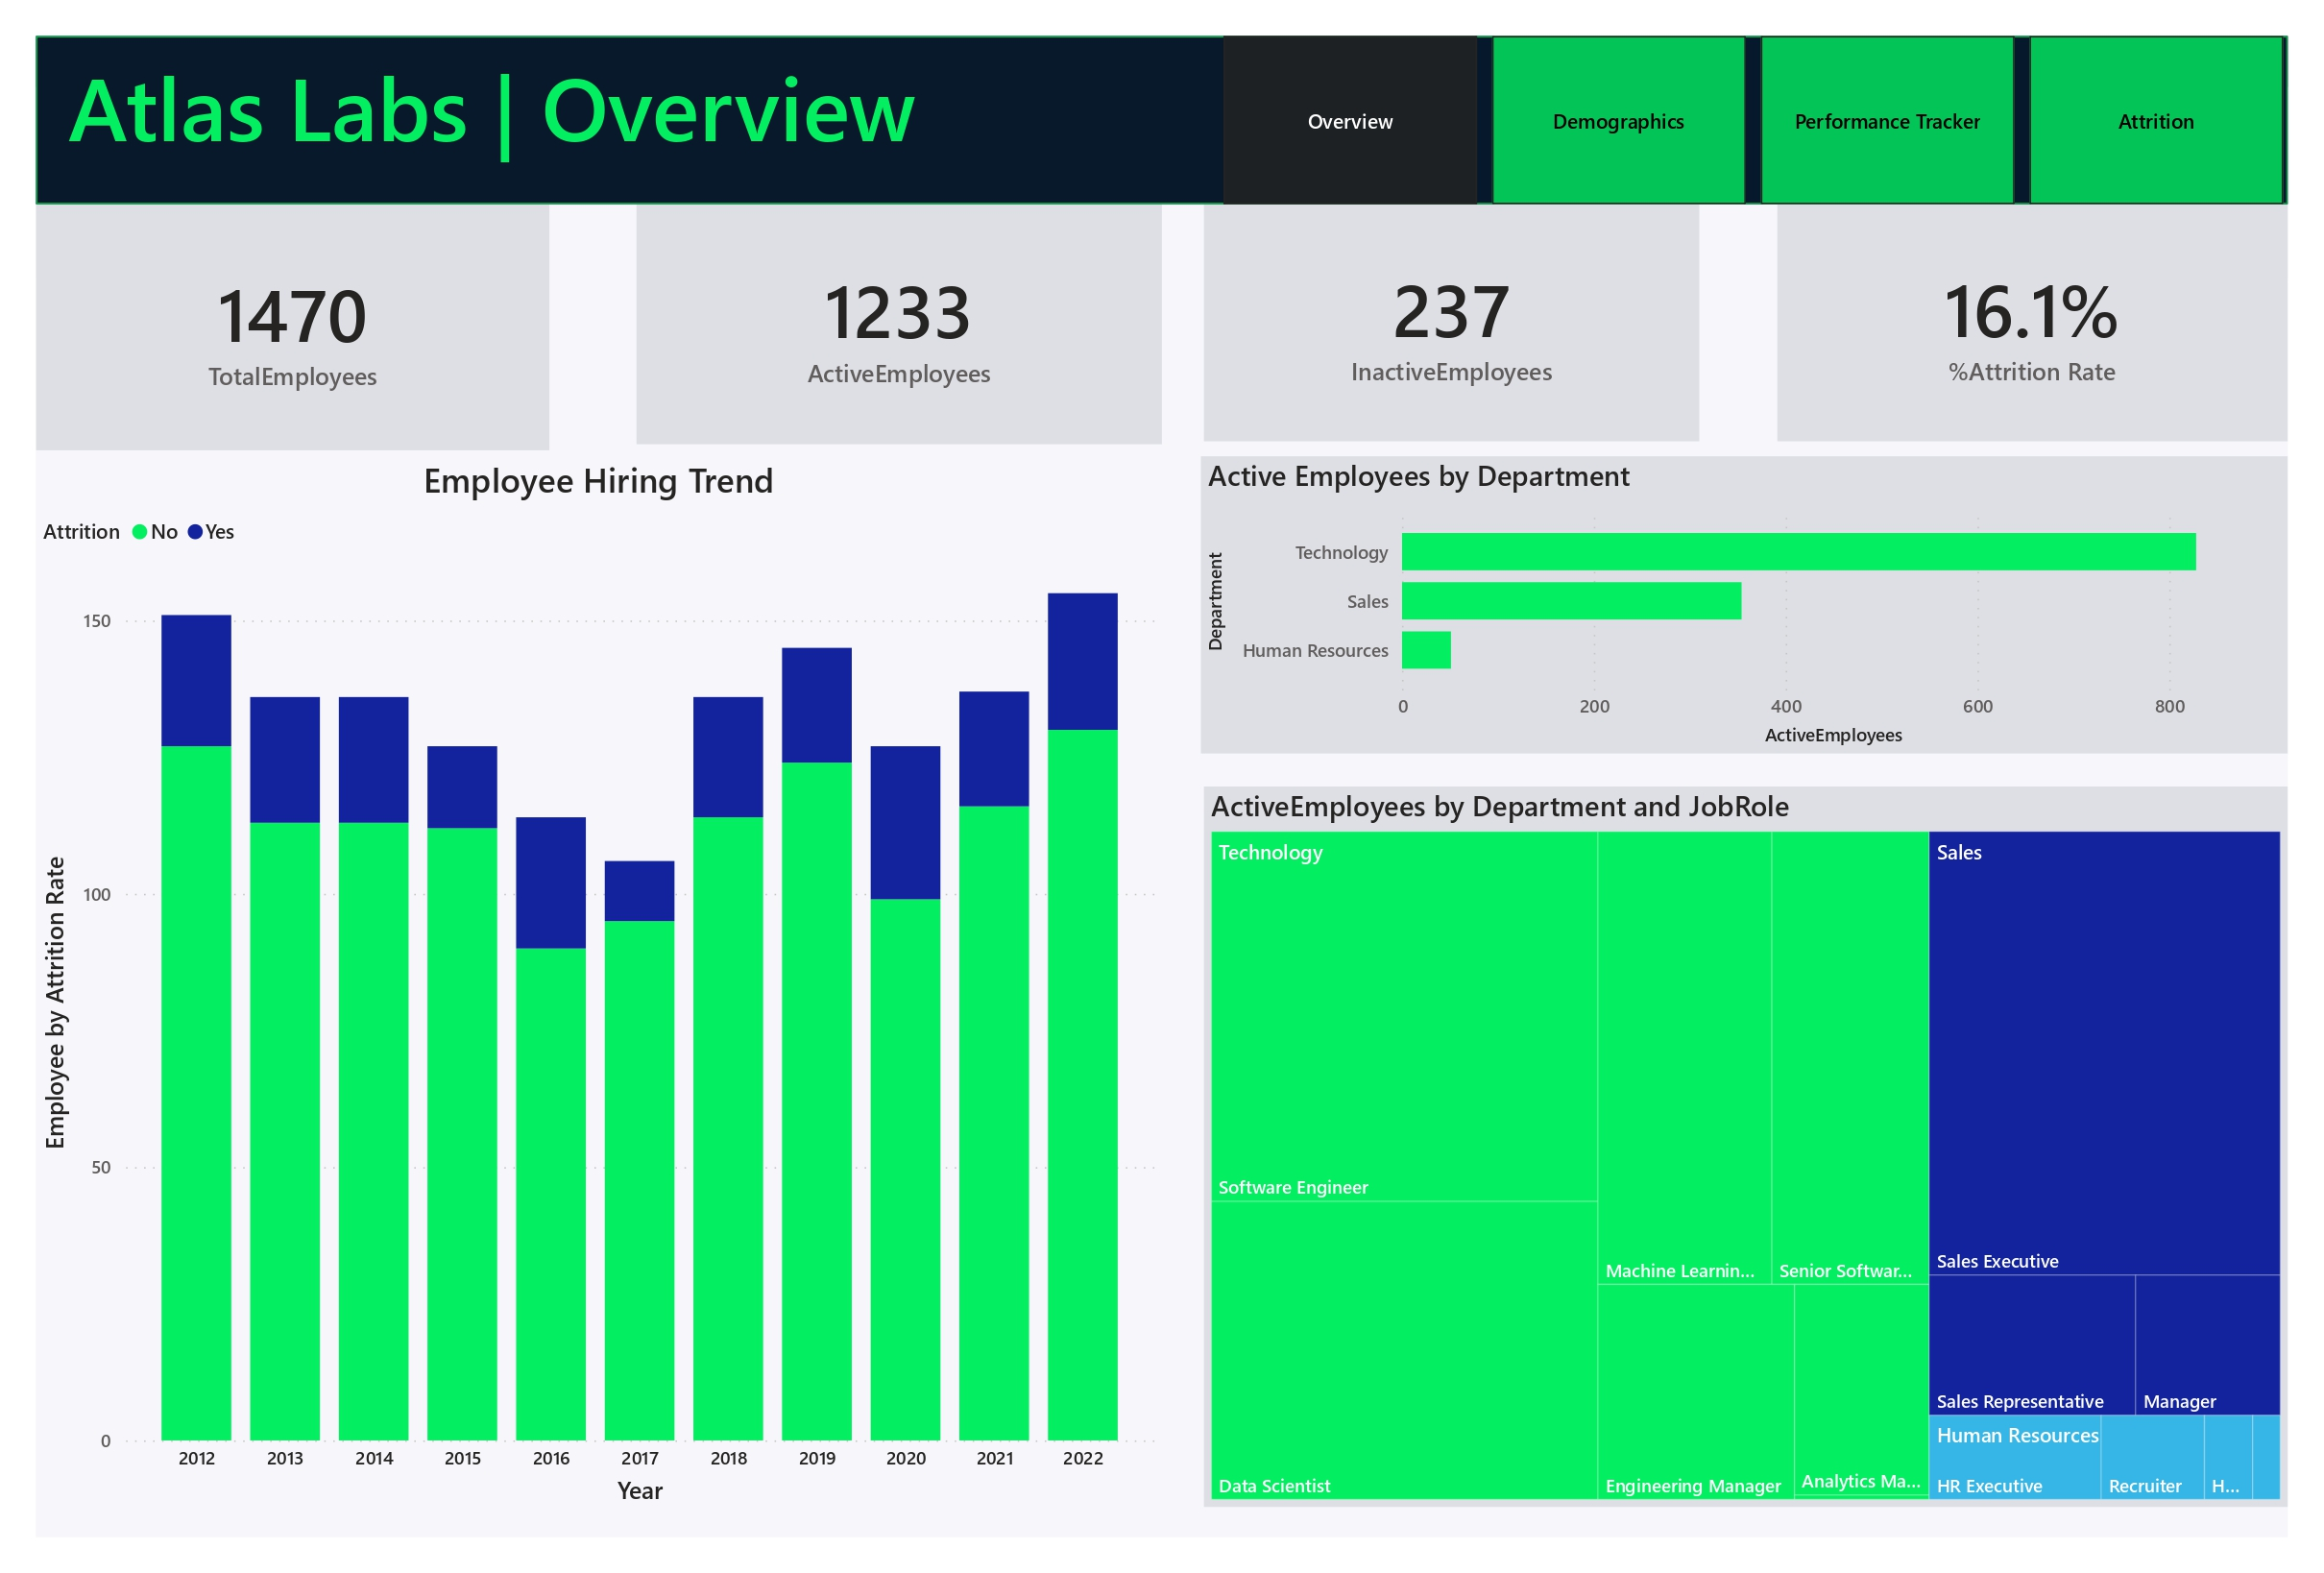

The page's visual inventory and layout, read from the dashboard file:
{"tool":"powerbi","page":{"name":"Overview","canvas":[1500,1000],"ordinal":0},"visuals":[{"type":"card","fields":{"Values":["_Measures.TotalEmployees"]},"box":[0,112,342,164],"z":0},{"type":"card","fields":{"Values":["_Measures.ActiveEmployees"]},"box":[399.6,112.2,350.4,159.4],"z":1000},{"type":"card","fields":{"Values":["_Measures.InactiveEmployees"]},"box":[777.6,112.2,330.7,157.5],"z":2000},{"type":"card","fields":{"Values":["_Measures.%Attrition Rate"]},"box":[1160,112,340,158],"z":3000},{"type":"columnChart","title":"Employee Hiring Trend","fields":{"Y":["_Measures.TotalEmployeesbyDate"],"Category":["DimDate.Date.Variation.Date Hierarchy.Year","DimDate.Date.Variation.Date Hierarchy.Quarter","DimDate.Date.Variation.Date Hierarchy.Month","DimDate.Date.Variation.Date Hierarchy.Day"],"Series":["DIMEmployee.Attrition"]},"box":[0,279.5,750,704.7],"z":4000},{"type":"clusteredBarChart","title":"Active Employees by Department","fields":{"Category":["DIMEmployee.Department"],"Y":["_Measures.ActiveEmployees"]},"box":[775.6,279.5,724.4,198.8],"z":5000},{"type":"treemap","fields":{"Group":["DIMEmployee.Department"],"Details":["DIMEmployee.JobRole"],"Values":["_Measures.ActiveEmployees"]},"box":[777.6,500,722.4,480.3],"z":6000},{"type":"shape","box":[0,0,1500,112.2],"z":7000},{"type":"textbox","box":[0,2,1500,110.2],"z":8000},{"type":"pageNavigator","box":[791.3,0,708.7,112.2],"z":9000}]}

Visuals, with their boxes on the page's 1500x1000 design canvas (x1, y1, x2, y2). These are canvas units, not pixel positions in the 2324x1573 screenshot, which may show the page scaled, cropped or inside an application window:
card - _Measures.TotalEmployees: x1=0 y1=112 x2=342 y2=276
card - _Measures.ActiveEmployees: x1=400 y1=112 x2=750 y2=272
card - _Measures.InactiveEmployees: x1=778 y1=112 x2=1108 y2=270
card - _Measures.%Attrition Rate: x1=1160 y1=112 x2=1500 y2=270
"Employee Hiring Trend" columnChart: x1=0 y1=280 x2=750 y2=984
"Active Employees by Department" clusteredBarChart: x1=776 y1=280 x2=1500 y2=478
treemap - DIMEmployee.Department x DIMEmployee.JobRole: x1=778 y1=500 x2=1500 y2=980
shape: x1=0 y1=0 x2=1500 y2=112
textbox: x1=0 y1=2 x2=1500 y2=112
pageNavigator: x1=791 y1=0 x2=1500 y2=112
